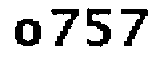5: (85, 5, 114, 51)
7: (48, 7, 83, 51), (117, 5, 149, 50)
o: (11, 16, 42, 48)
